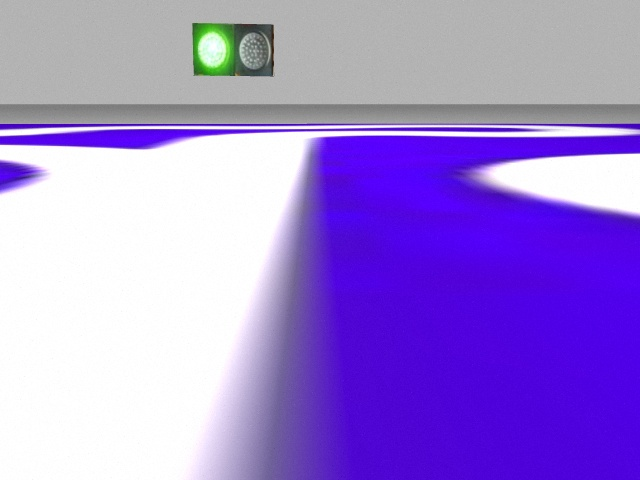green: (192, 23, 236, 76)
